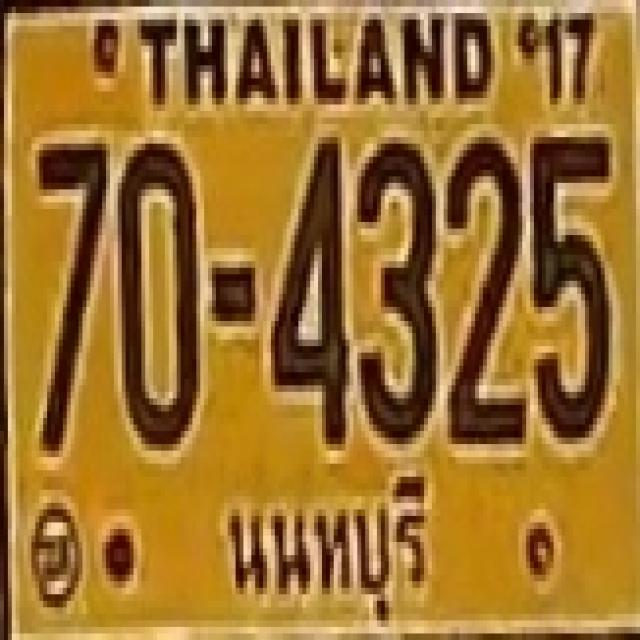0: (118, 137, 196, 444)
2: (444, 130, 522, 438)
3: (355, 137, 434, 438)
4: (271, 130, 345, 438)
5: (528, 130, 607, 438)
7: (35, 137, 106, 451)
NBI: (213, 462, 441, 628)
